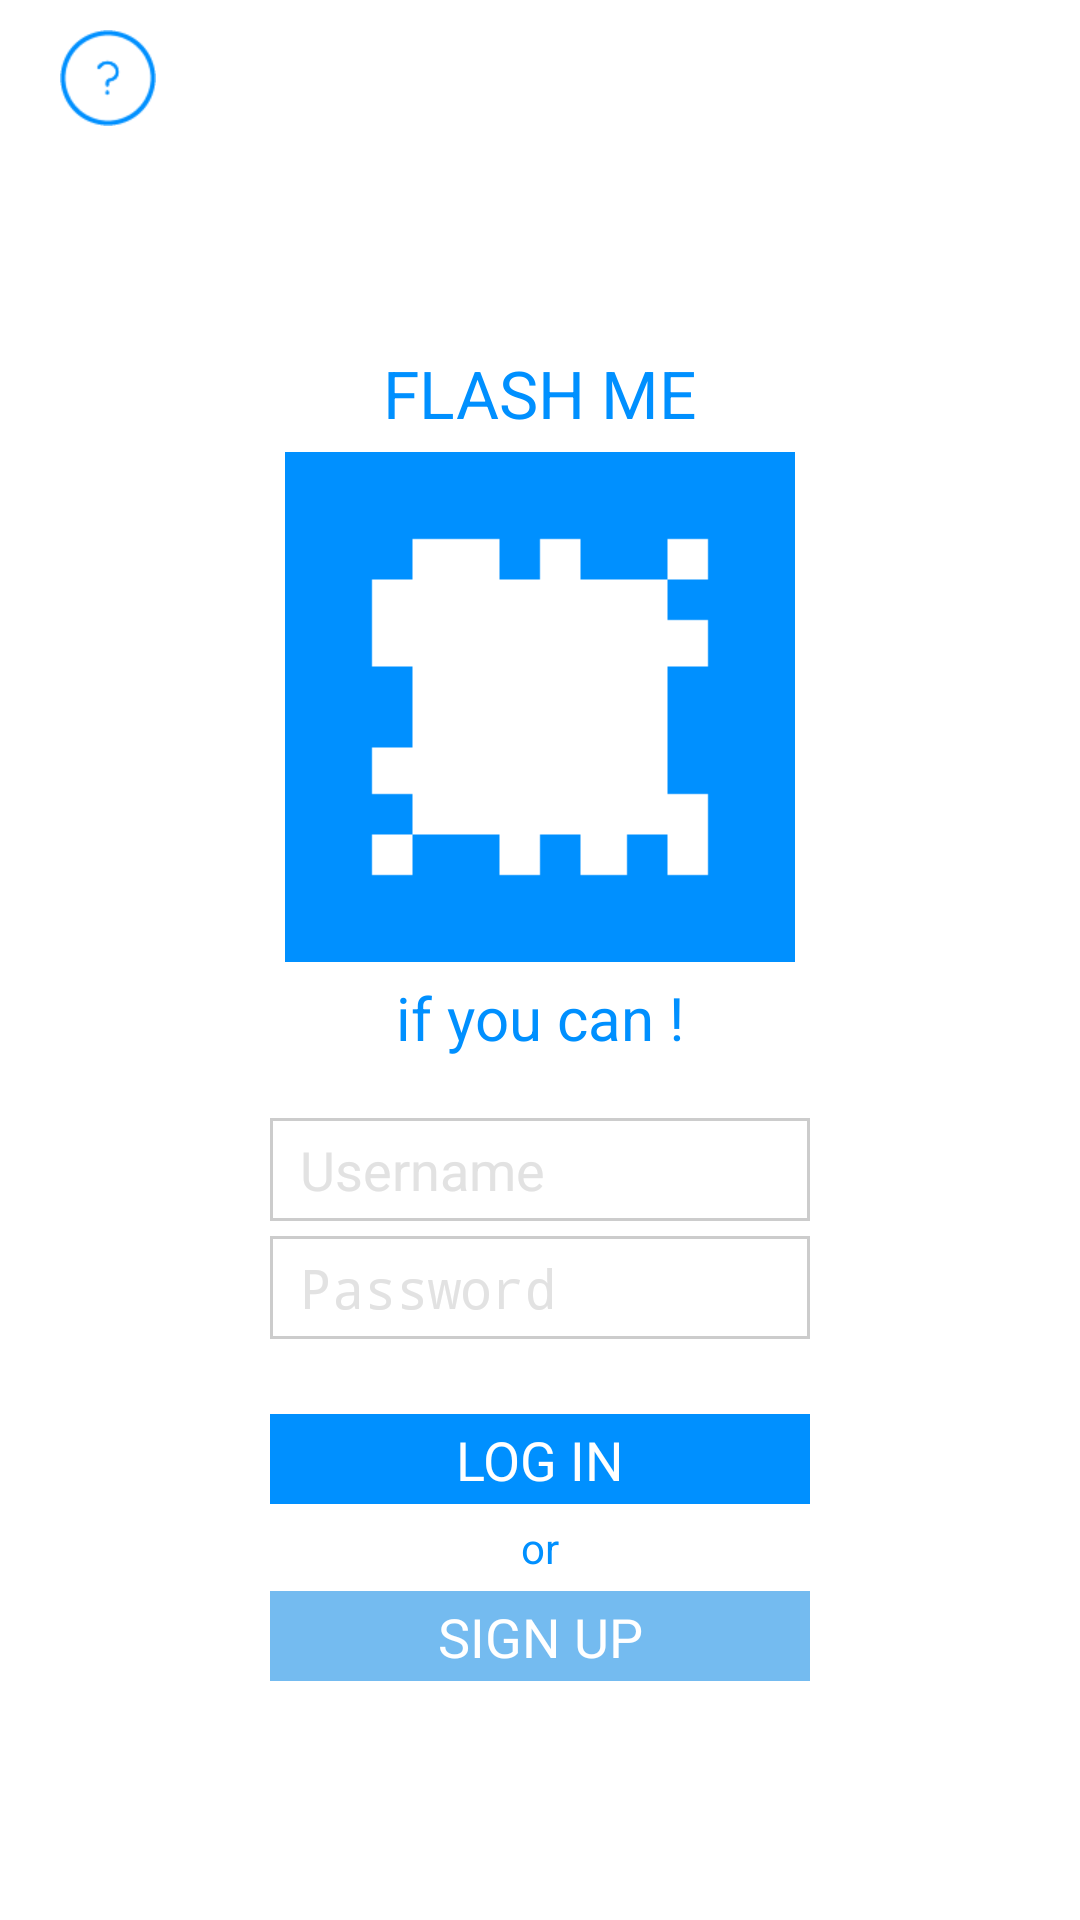

Named icons in this screenshot (1080w x 1920h) and their centers, (x,y):
help: (108,78)
